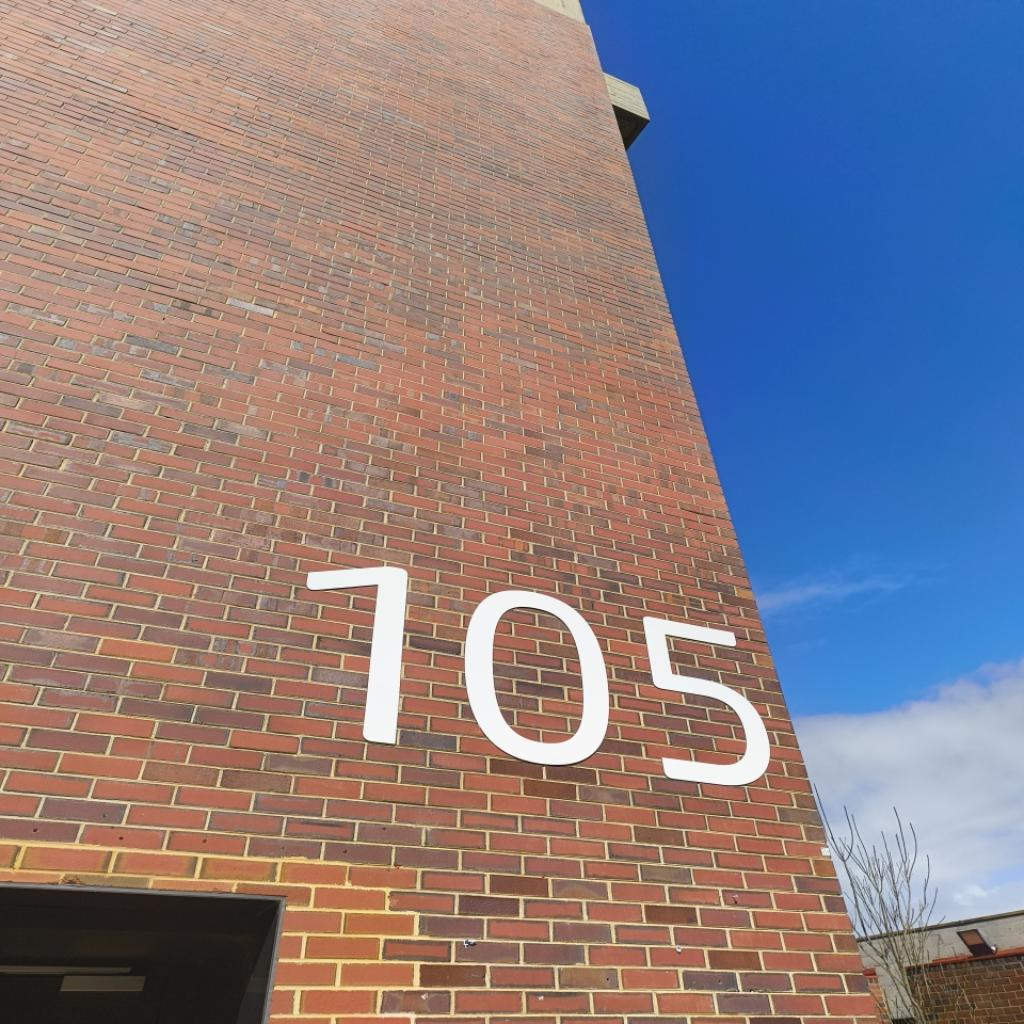BuildingCodes: (289, 552, 783, 804)
